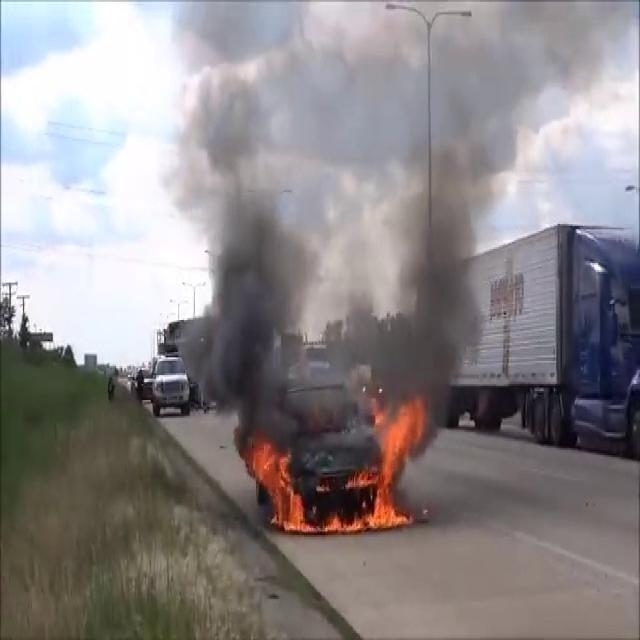Fire: (357, 391, 430, 532), (246, 430, 306, 535)
Smoke: (343, 1, 609, 390), (165, 2, 318, 414)
